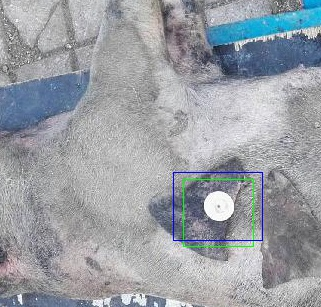text: (183, 179, 253, 246)
